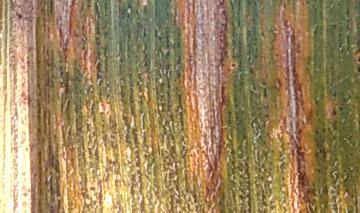tarspot: (229, 60, 238, 71)
